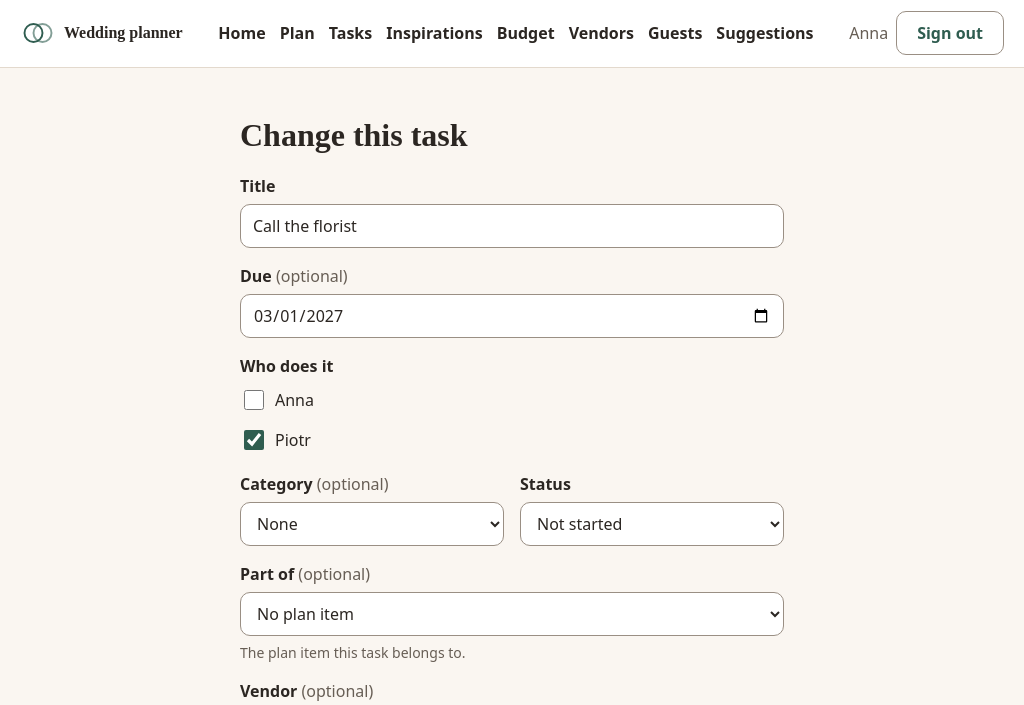
it: adding and changing an entry › changes an entry, saying which version the change is based on
This screenshot has width=1024, height=705.
Expected: the heading "Change this task" is shown, [240,117,468,153]
Expected: the date field labelled "Due (optional)" holds "2027-03-01", [240,294,784,338]
Replace the text in the field labelled "Title" with "Call the florist on Monday" at (512, 226), box [240,204,784,248]
(page scrolled)
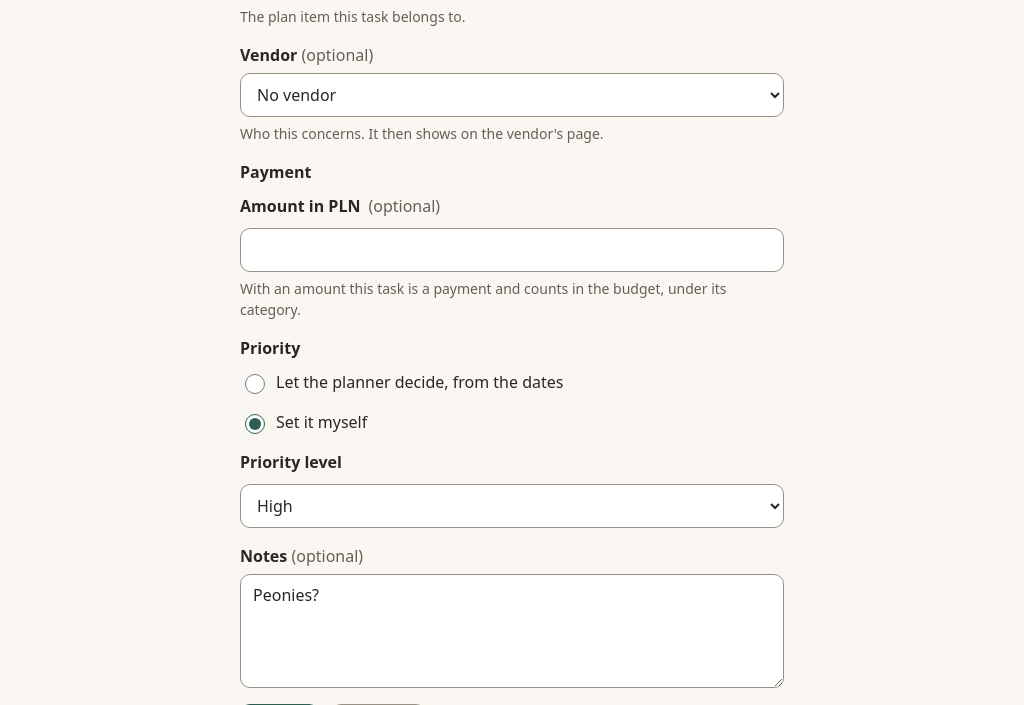
Click the radio button labelled "Let the planner decide, from the dates" at (255, 384), box [245,374,265,394]
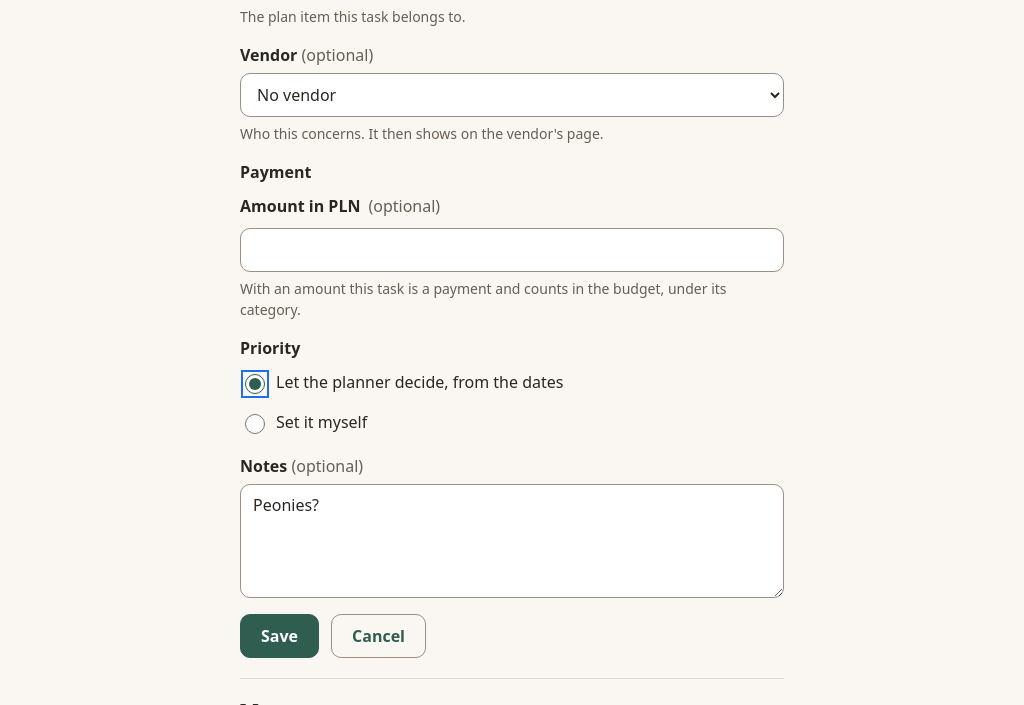
Click the button "Save" at (280, 636), box [240,614,319,658]
(page scrolled)
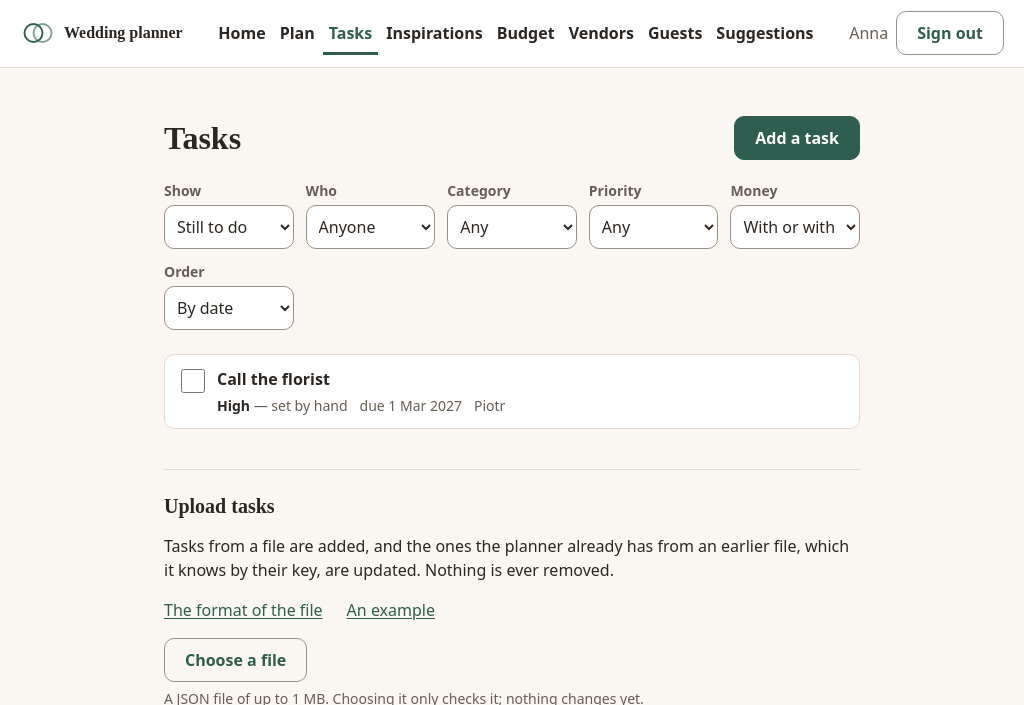
Now the heading "Tasks" is shown, box [164,119,241,157]
